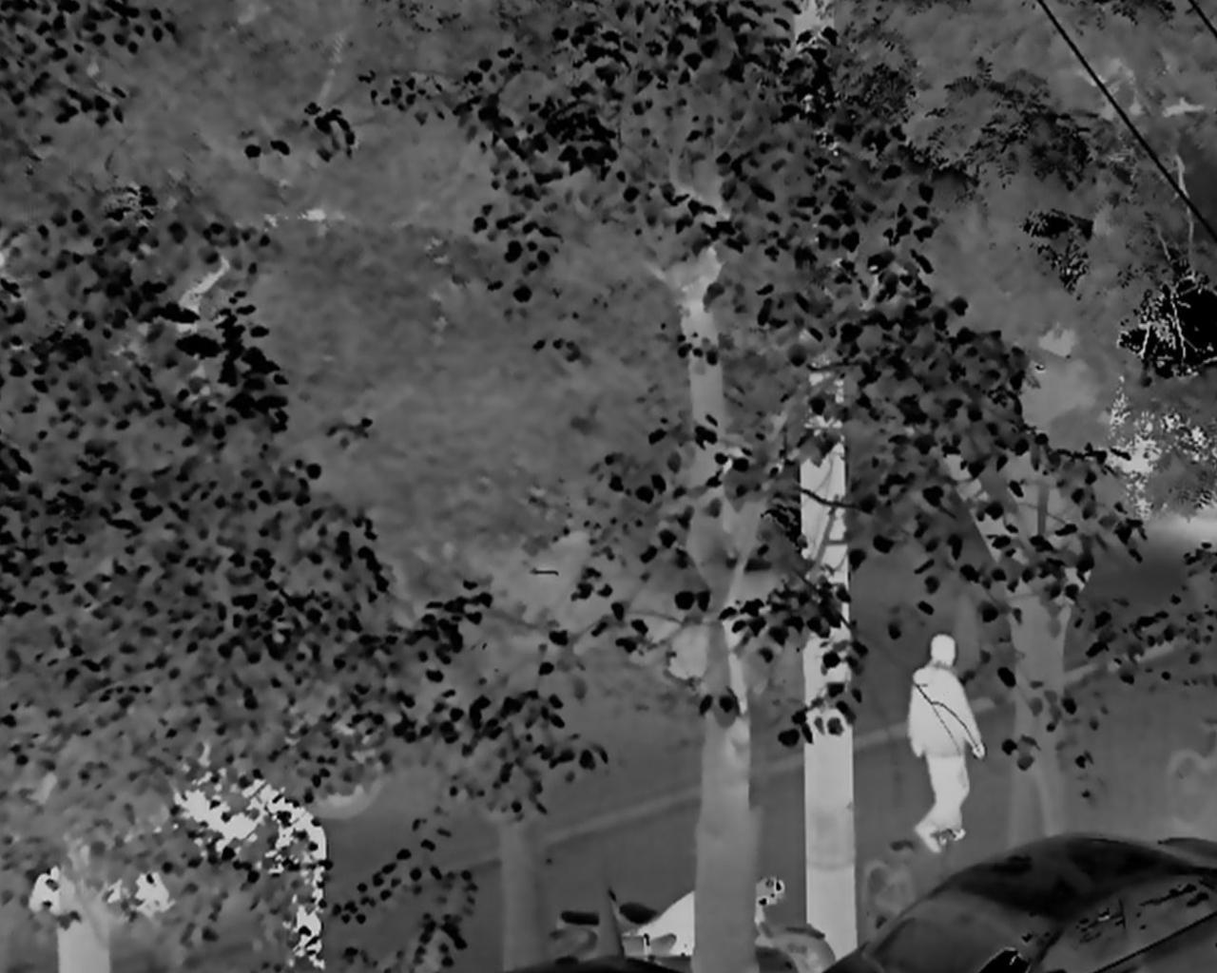person: (912, 628, 983, 850), (269, 799, 329, 973)
